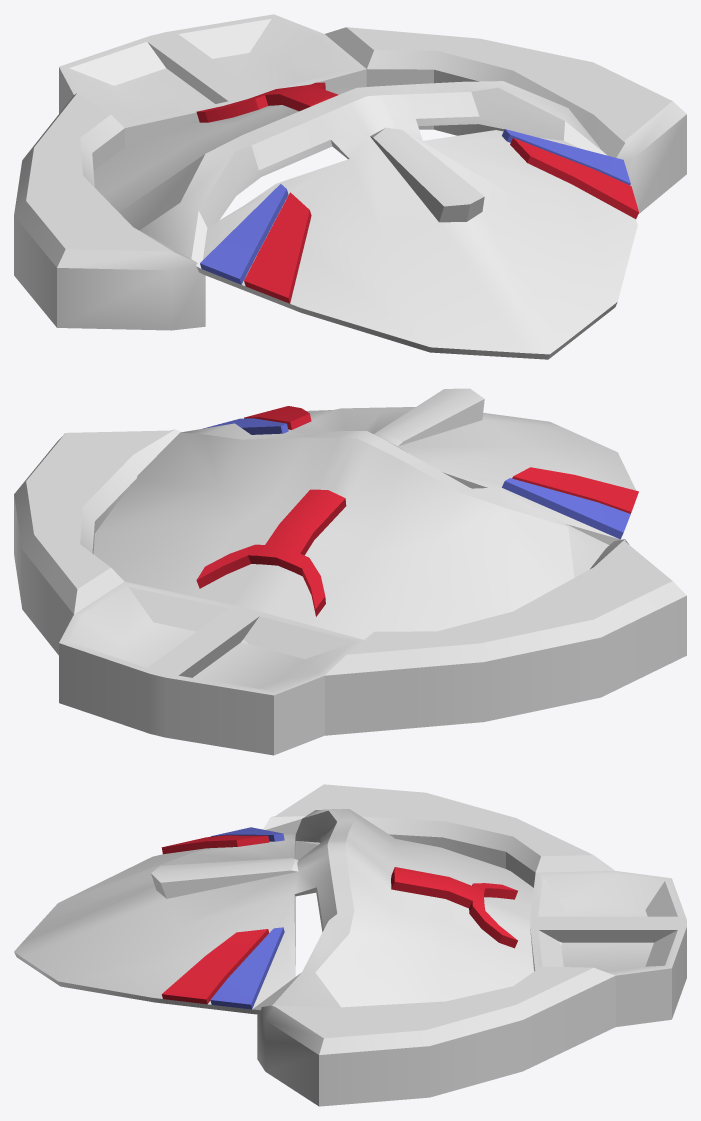
Rendered from mask.fbx.
The picture shows the model from 3 angles, top to bottom: view 1: azimuth 30°, elevation 25°; view 2: azimuth 150°, elevation 25°; view 3: azimuth 270°, elevation 25°; orthographic projection. The views are drawn at different scales.
Visible parts, largest first — view 1: Cube, Plane, Cube.001, Cube.002; view 2: Plane, Cube, Cube.001, Cube.002; view 3: Cube, Plane, Cube.001, Cube.002.
Part boxes in pixels (bbox=[...]): Cube: bbox=[93, 81, 637, 359]; Plane: bbox=[14, 14, 686, 330]; Cube.001: bbox=[196, 82, 638, 303]; Cube.002: bbox=[200, 129, 630, 284]; Plane: bbox=[14, 429, 686, 755]; Cube: bbox=[93, 388, 635, 643]; Cube.001: bbox=[196, 406, 638, 616]; Cube.002: bbox=[203, 418, 630, 539]; Cube: bbox=[14, 809, 562, 1014]; Plane: bbox=[257, 784, 686, 1106]; Cube.001: bbox=[161, 835, 517, 1004]; Cube.002: bbox=[210, 827, 284, 1009].
Size of the model in its own units: 329 by 75.84 by 355.
